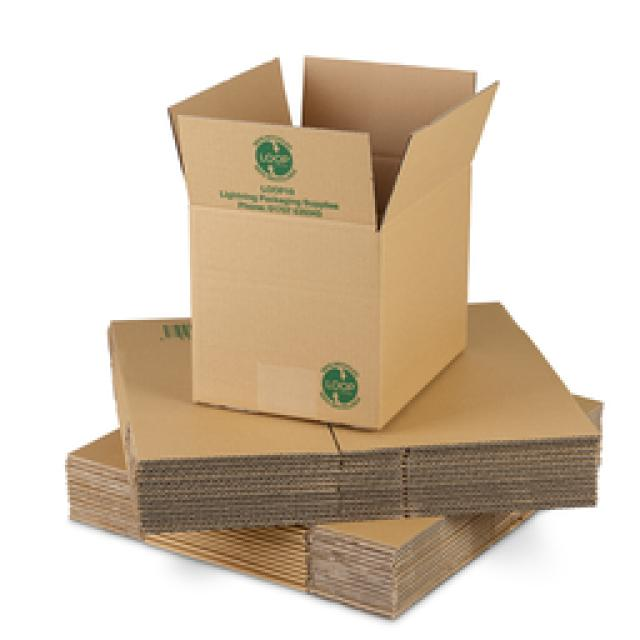cardboard: (68, 58, 600, 615)
